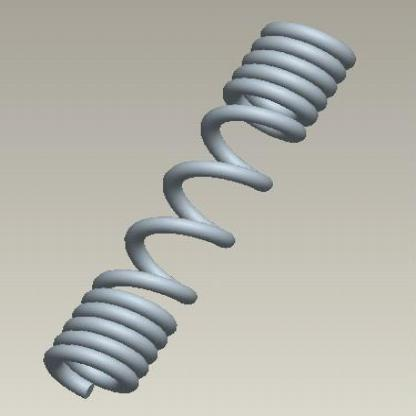FOD: (40, 19, 360, 402)
